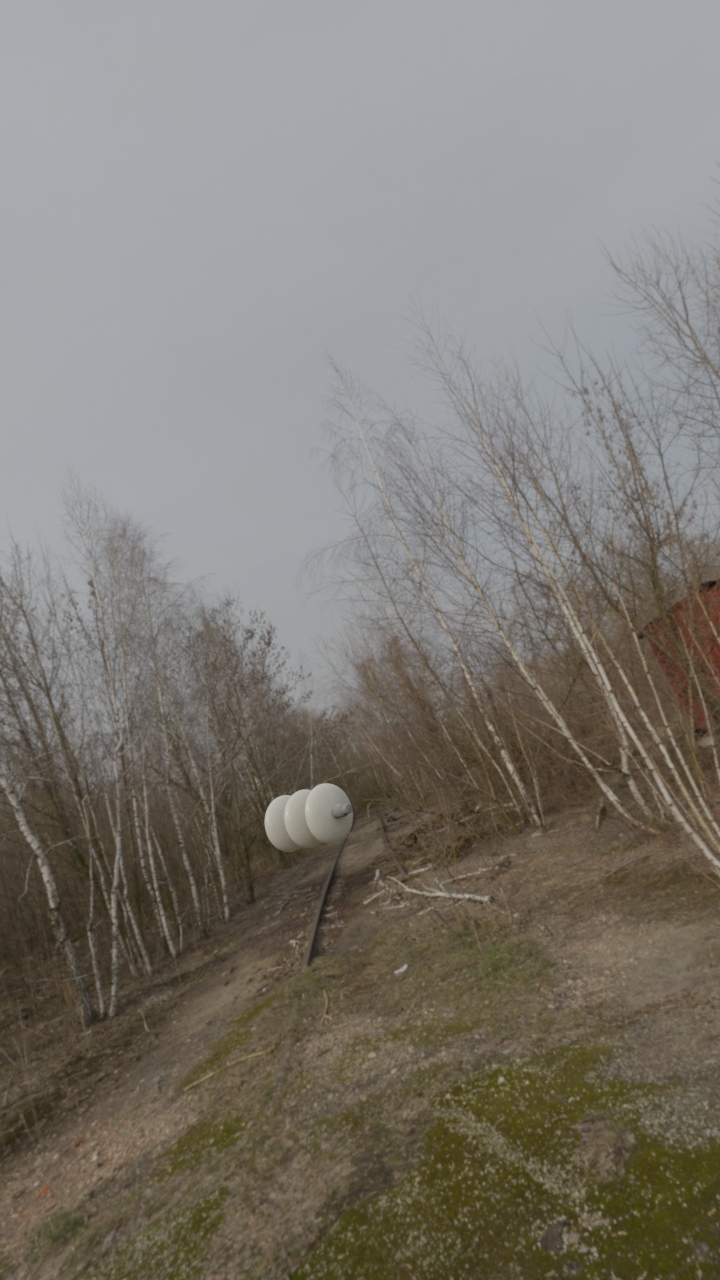ceramicinsulators: (264, 784, 353, 852)
